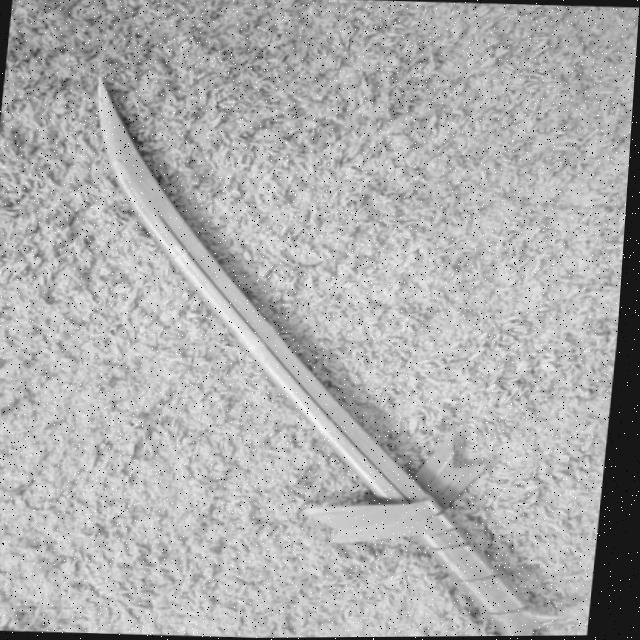knife: (31, 73, 615, 640)
